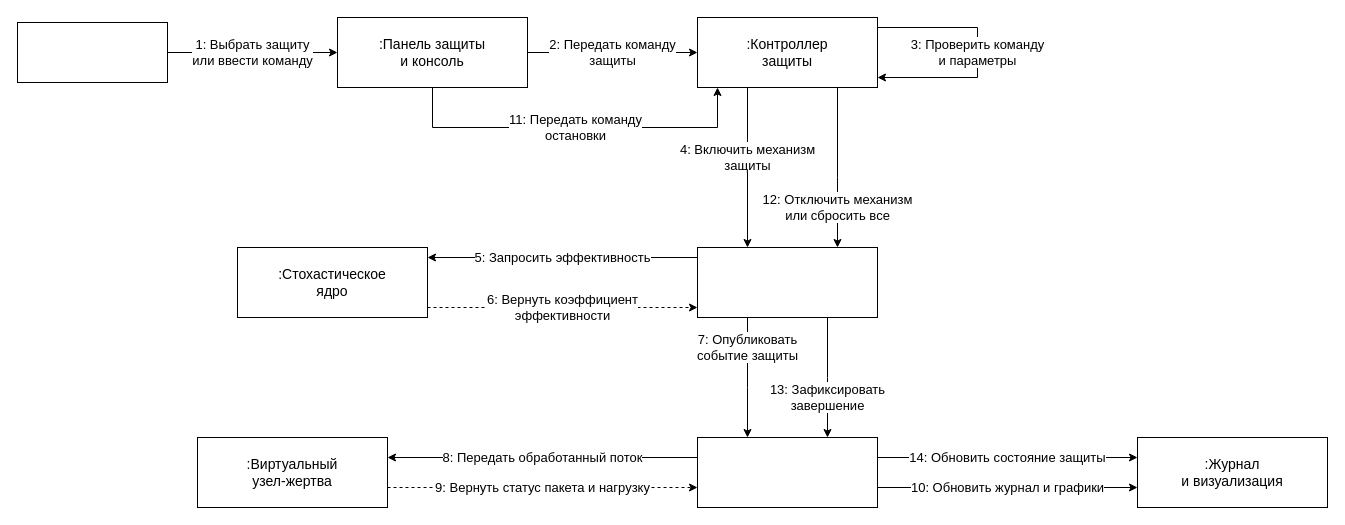
This 1345x525 diagram has some shape labels left out. The centre of each missing label's shape, as x and y in pixels:
:Менеджер защиты: the point at 787,282
:Пользователь: the point at 92,52
:Шина событий: the point at 787,472
